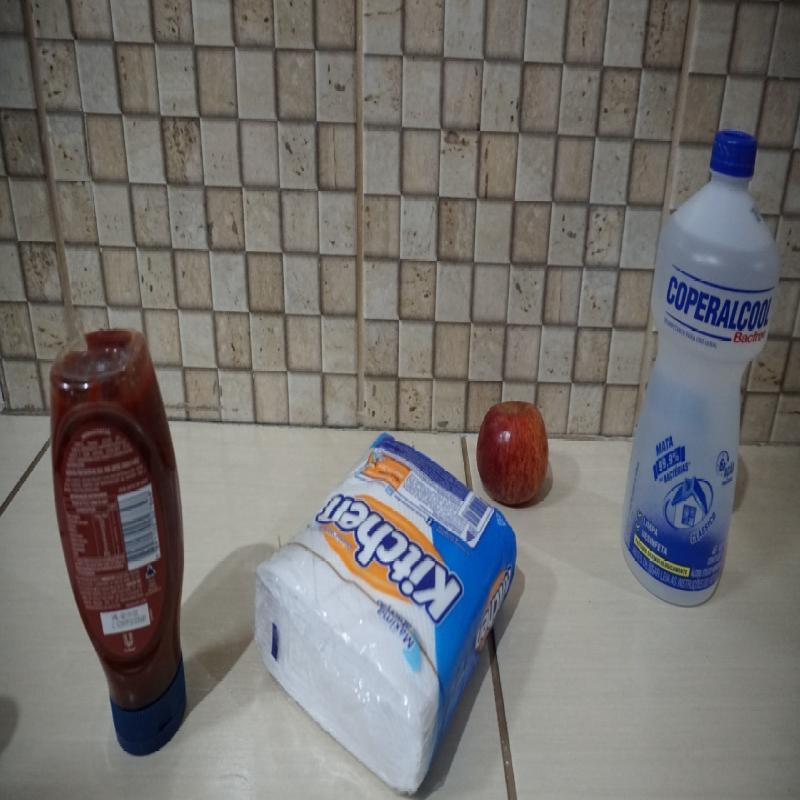Alcohol Bottle: (620, 126, 776, 612)
Apple: (478, 400, 550, 506)
Ketchup: (49, 326, 190, 760)
Napkin: (251, 431, 516, 793)
